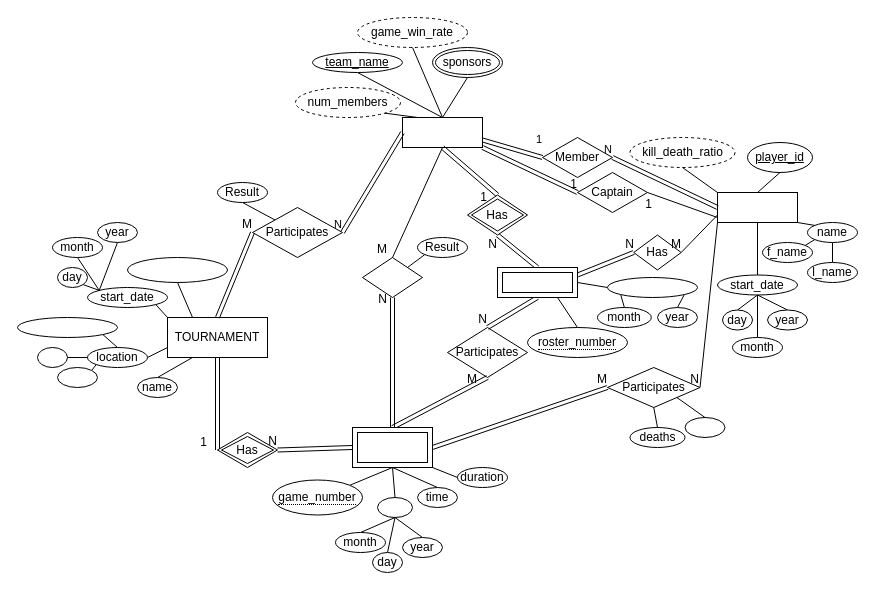
This 875x590 diagram has some shape labels left out. The centre of each missing label's shape, as x and y in pixels:
"city" belongs at [52,357].
"creation_date" belongs at [652,287].
"date" belongs at [394,507].
"GAME" belongs at [392,447].
"kills" belongs at [704,427].
"PLAYER" belongs at [757,207].
"Plays" belongs at [392,277].
"ROSTER" belongs at [537,282].
"state" belongs at [77,377].
"street_address" belongs at [67,327].
"TEAM" belongs at [442,132].
"tournament_id" belongs at [177,269].
